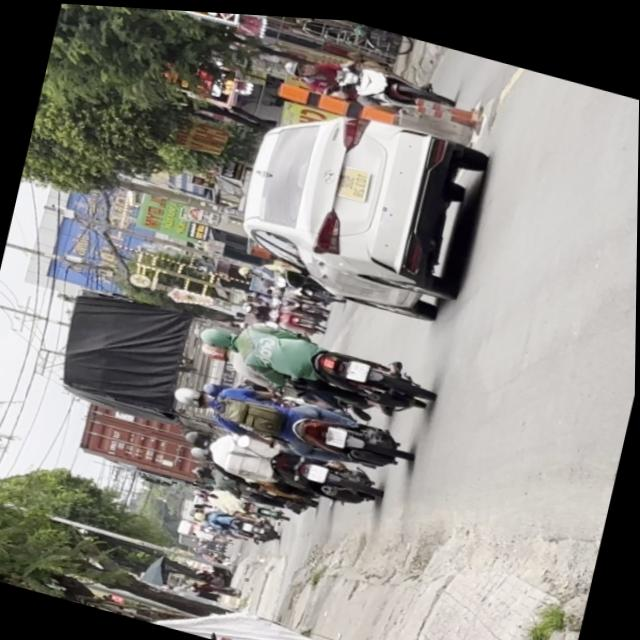helmet: (197, 317, 240, 349), (171, 378, 211, 407), (181, 422, 214, 446), (198, 336, 233, 358)
licenseplate: (190, 300, 440, 422), (163, 360, 417, 476), (175, 413, 385, 511)
nohelmet: (346, 353, 371, 376), (326, 420, 349, 443), (307, 458, 330, 479)
